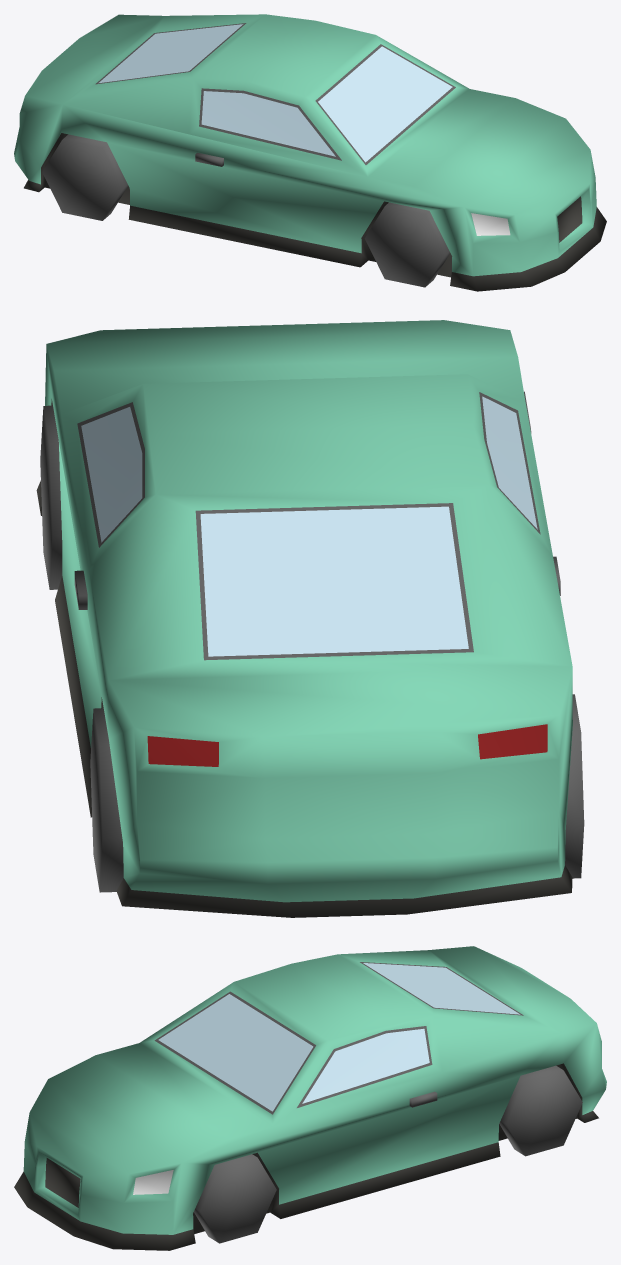
File: caronly.glb
3 renders of one model, top to bottom at view 1: azimuth 30°, elevation 25°; view 2: azimuth 150°, elevation 25°; view 3: azimuth 270°, elevation 25°, orthographic. The views are drawn at different scales.
Parts seen in each view (by area): view 1: Car_3_2.001; view 2: Car_3_2.001; view 3: Car_3_2.001.
Part boxes in pixels (x1,y1,x2,y2): Car_3_2.001: [14, 14, 606, 291]; Car_3_2.001: [36, 320, 584, 917]; Car_3_2.001: [14, 946, 606, 1250].
Bounding box in the file's own units: 43.67 × 15.13 × 52.58.
1 material, 1 textured.
